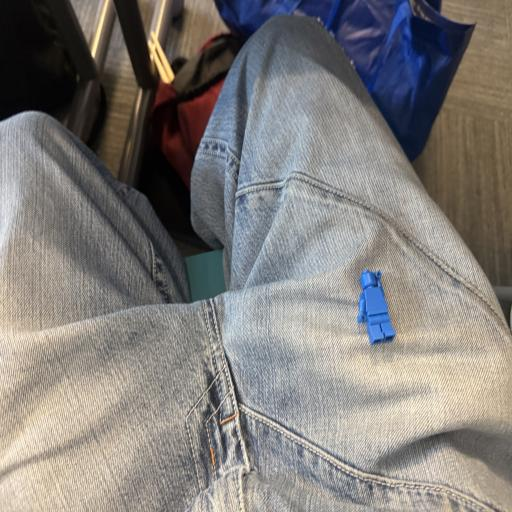Minifig: (357, 270, 395, 344)
